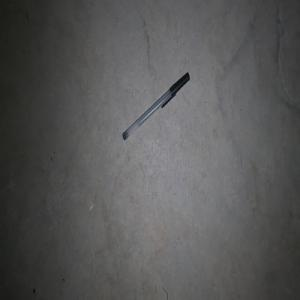Pen: (122, 72, 189, 140)
